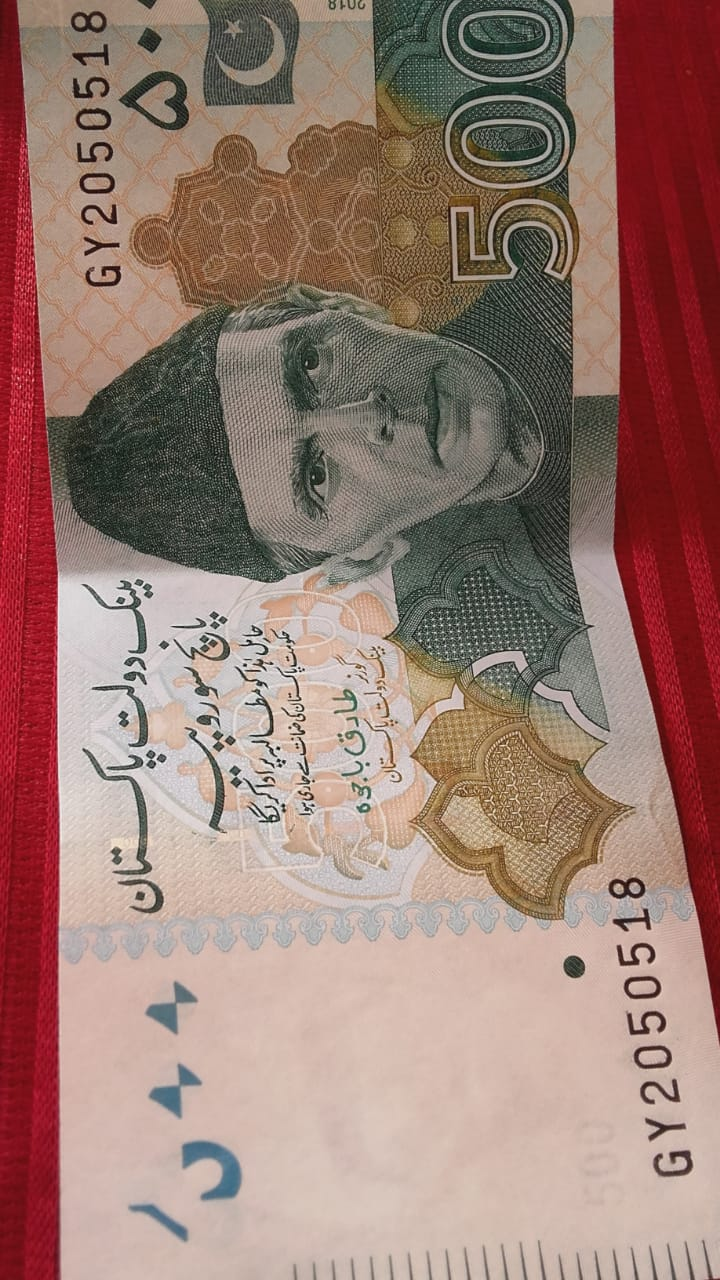500 rupee: (28, 14, 695, 1266)
